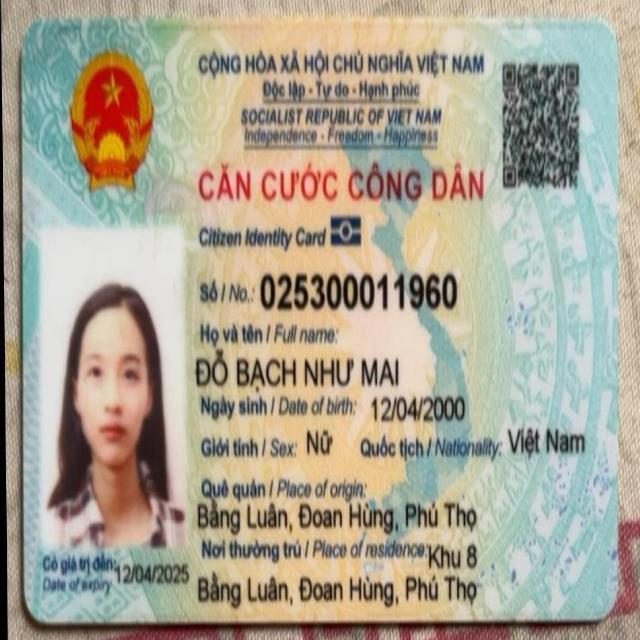current_place: (194, 569, 484, 609), (424, 534, 483, 572)
dob: (369, 395, 470, 425)
expire_date: (115, 558, 192, 591)
gender: (303, 426, 336, 458)
id: (258, 268, 459, 311)
name: (193, 347, 402, 396)
nationality: (504, 422, 589, 461)
origin_place: (189, 496, 482, 540)
